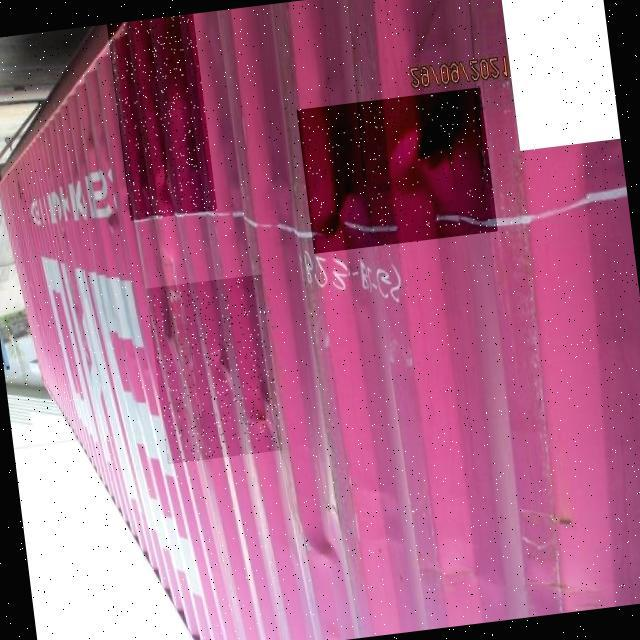Dent: (297, 87, 498, 254)
Minor-Dent: (146, 274, 283, 464), (107, 14, 217, 221)
